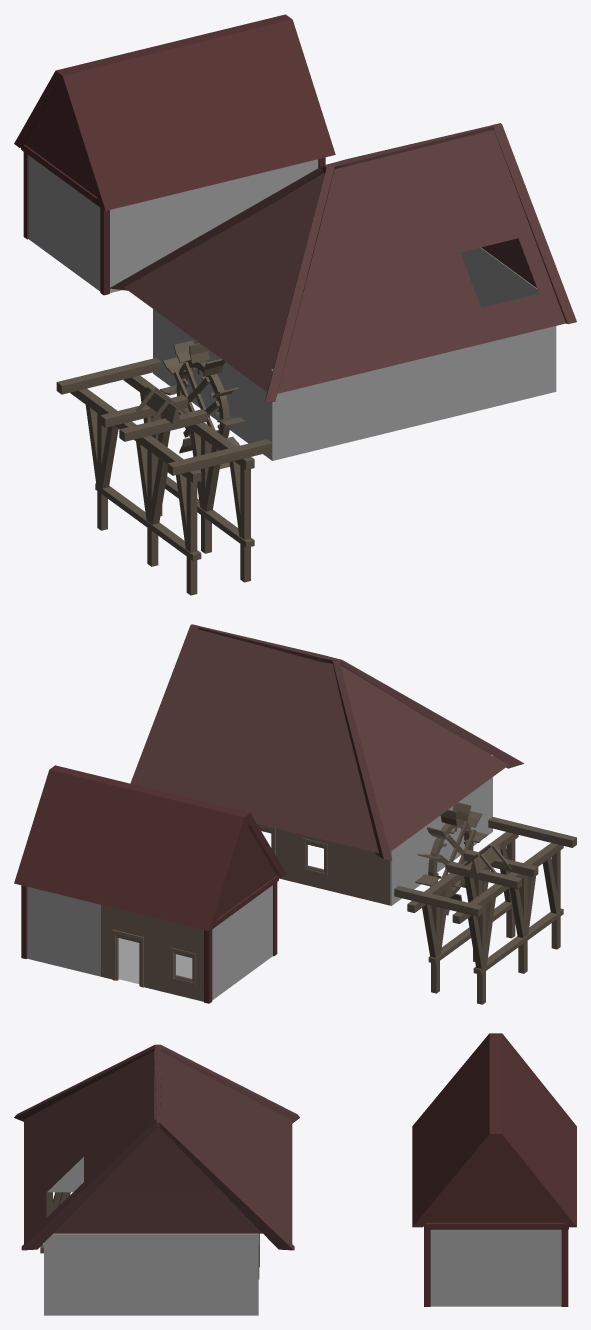
The model's file is HouseAndShackV4.fbx.
3 views of the same model, one above another, from view 1: azimuth 30°, elevation 25°; view 2: azimuth 150°, elevation 25°; view 3: azimuth 270°, elevation 25° (orthographic). The views are drawn at different scales.
Visible parts, largest first — view 1: Roof, Shack, Walls1, RoofSills, BlocksTop, MillWheel, BlocksBottom, Pillar1, Pillar3, Pillar4, Pillar5, Pillar (+2 smaller); view 2: Shack, Roof, Walls1, RoofSills, BlocksTop, MillWheel, BlocksBottom, Pillar3, Pillar1, Pillar2, Pillar4, Blocks1 (+2 smaller); view 3: Shack, Roof, Walls1, RoofSills.
Part boxes in pixels (<box>): Roof: <box>124,129,565,393</box>; Shack: <box>14,14,335,295</box>; Walls1: <box>153,247,556,460</box>; RoofSills: <box>109,123,576,402</box>; BlocksTop: <box>70,375,254,482</box>; MillWheel: <box>160,340,244,468</box>; BlocksBottom: <box>95,476,254,560</box>; Pillar1: <box>136,441,167,566</box>; Pillar3: <box>85,399,118,530</box>; Pillar4: <box>176,474,197,595</box>; Pillar5: <box>229,461,250,582</box>; Pillar: <box>189,429,220,553</box>; Shack: <box>14,765,286,1003</box>; Roof: <box>139,629,508,853</box>; Walls1: <box>257,754,492,905</box>; RoofSills: <box>130,624,523,860</box>; BlocksTop: <box>407,832,563,923</box>; MillWheel: <box>415,802,487,915</box>; BlocksBottom: <box>428,901,563,974</box>; Pillar3: <box>468,893,496,1004</box>; Pillar1: <box>509,875,535,973</box>; Pillar2: <box>422,887,449,993</box>; Pillar4: <box>542,850,560,949</box>; Blocks1: <box>394,885,482,916</box>; Shack: <box>412,1033,576,1306</box>; Roof: <box>24,1051,292,1243</box>; Walls1: <box>44,1157,259,1315</box>; RoofSills: <box>14,1044,299,1250</box>.
Size of the model in its own units: 18.15 by 14.79 by 25.03.
